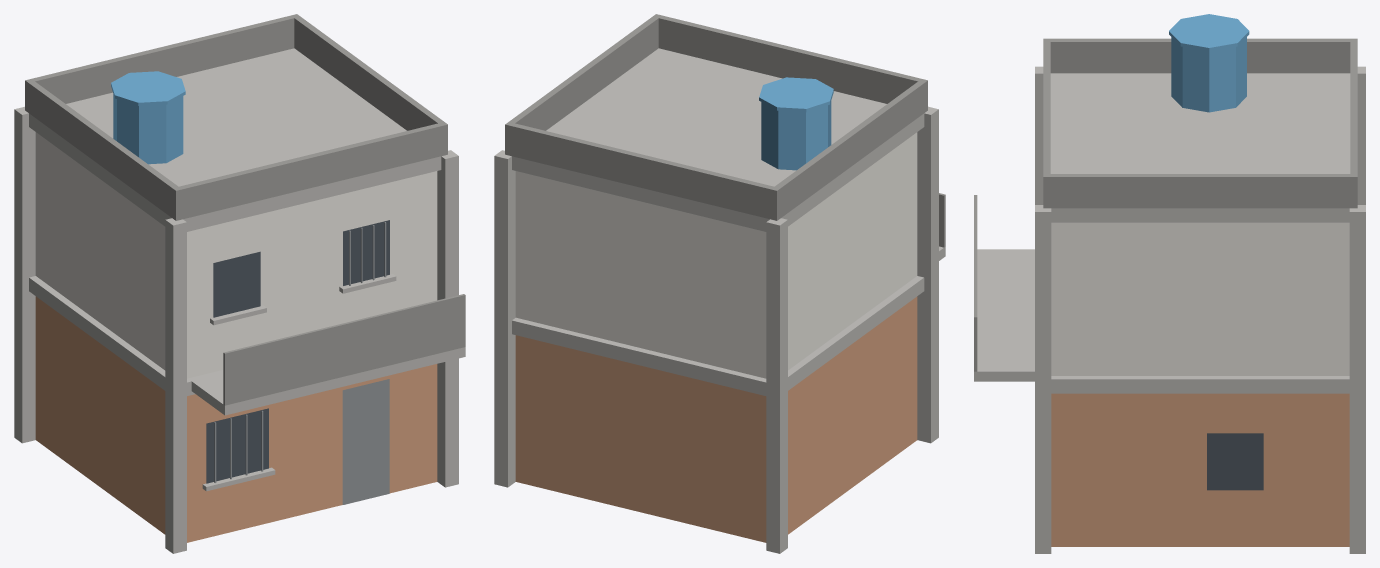
Rendered from fv_house_f.glb.
3 views of the same model, side by side, from view 1: azimuth 30°, elevation 25°; view 2: azimuth 150°, elevation 25°; view 3: azimuth 270°, elevation 25° (orthographic). The views are drawn at different scales.
Visible parts, largest first — view 1: fv_house_f; view 2: fv_house_f; view 3: fv_house_f.
Boxes of the visible parts, x1=… form: fv_house_f: x1=14, y1=14, x2=465, y2=553; fv_house_f: x1=494, y1=14, x2=945, y2=553; fv_house_f: x1=974, y1=14, x2=1365, y2=553.
Bounding box in the file's own units: 5.46 × 7.15 × 6.23.
